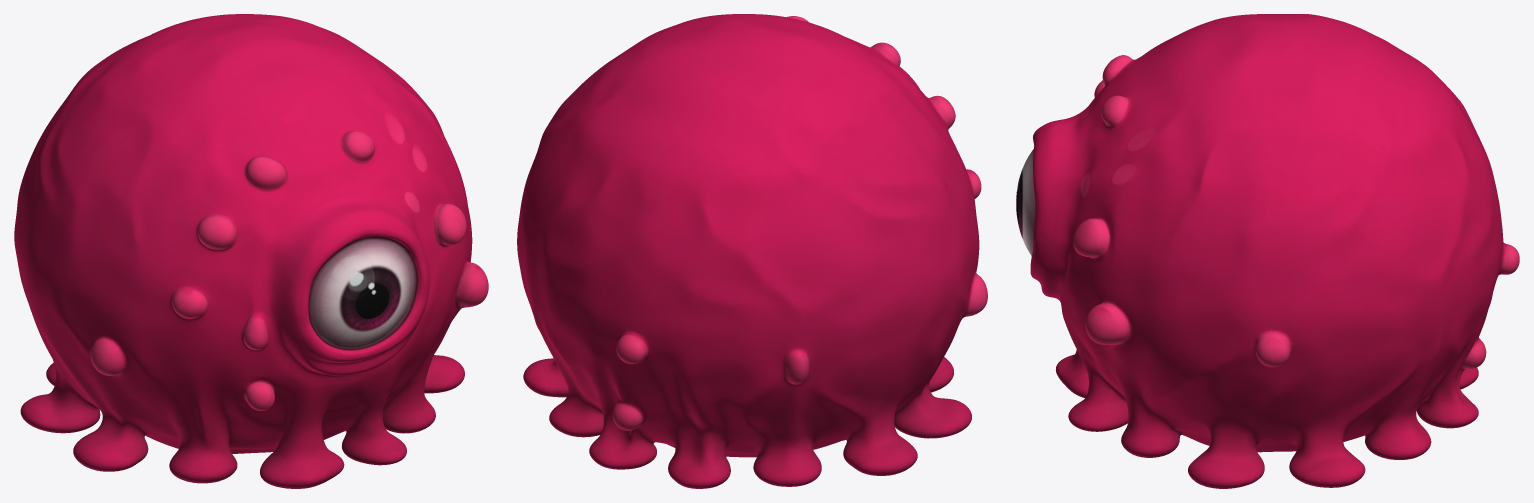
The model's file is flesh.glb.
3 renders of one model, left to right at view 1: azimuth 30°, elevation 25°; view 2: azimuth 150°, elevation 25°; view 3: azimuth 270°, elevation 25°, orthographic.
Bounding box in the file's own units: 1.8 × 1.65 × 1.9.
Materials: 1 (1 with a texture image).
